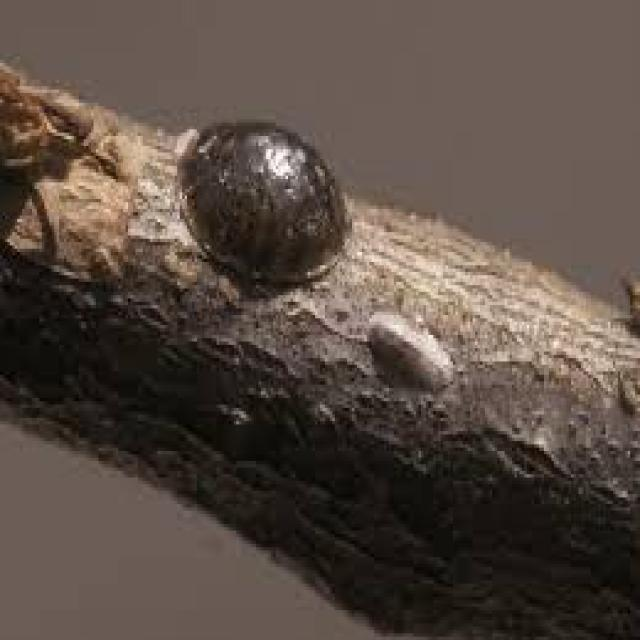Black Scale: (180, 119, 350, 292)
